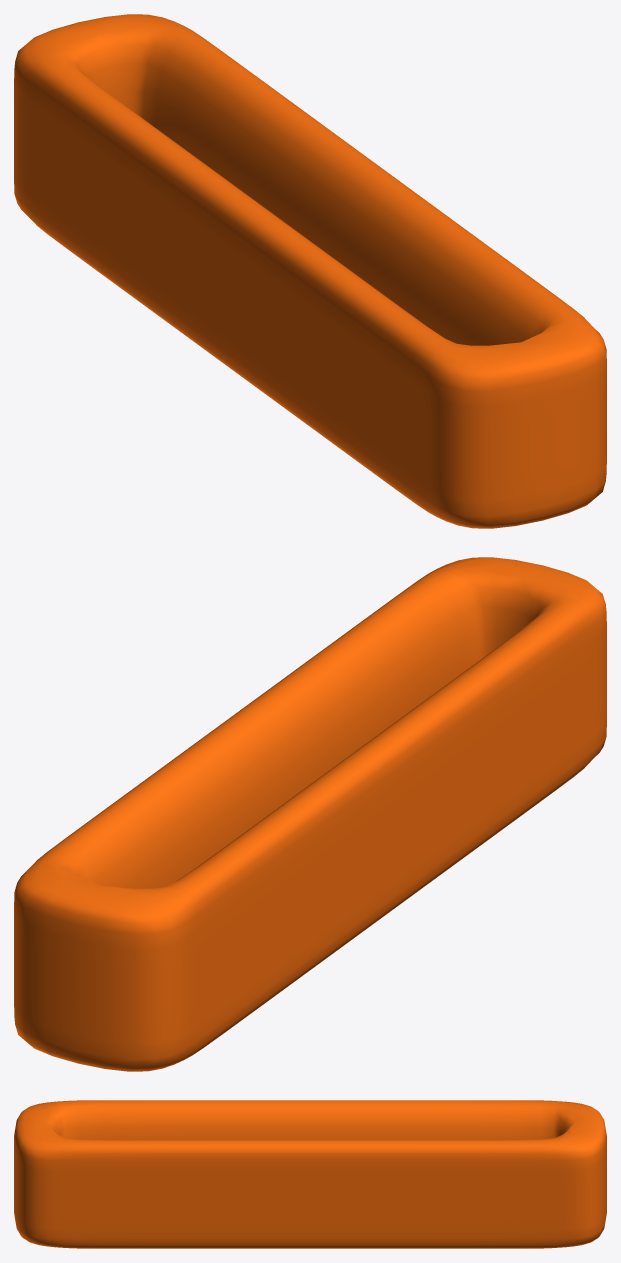
Rendered from Paddle.glb.
3 renders of one model, top to bottom at view 1: azimuth 30°, elevation 25°; view 2: azimuth 150°, elevation 25°; view 3: azimuth 270°, elevation 25°, orthographic. The views are drawn at different scales.
Visible parts, largest first — view 1: Cube; view 2: Cube; view 3: Cube.
Boxes of the visible parts, x1=… form: Cube: x1=14, y1=14, x2=606, y2=528; Cube: x1=14, y1=557, x2=606, y2=1071; Cube: x1=14, y1=1100, x2=606, y2=1248.
Bounding box in the file's own units: 1.4 × 1.37 × 6.95.
